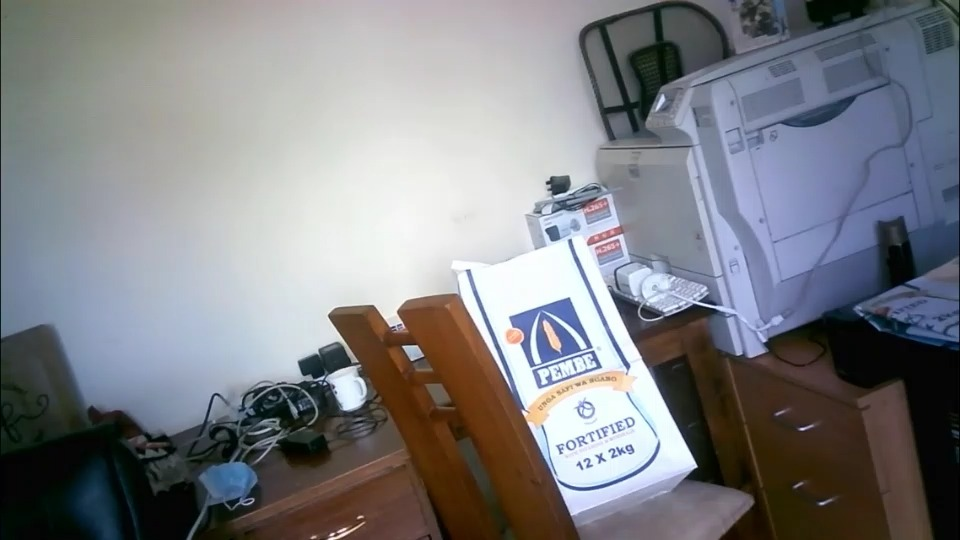wheat_flour_blue_label: (457, 234, 701, 532)
